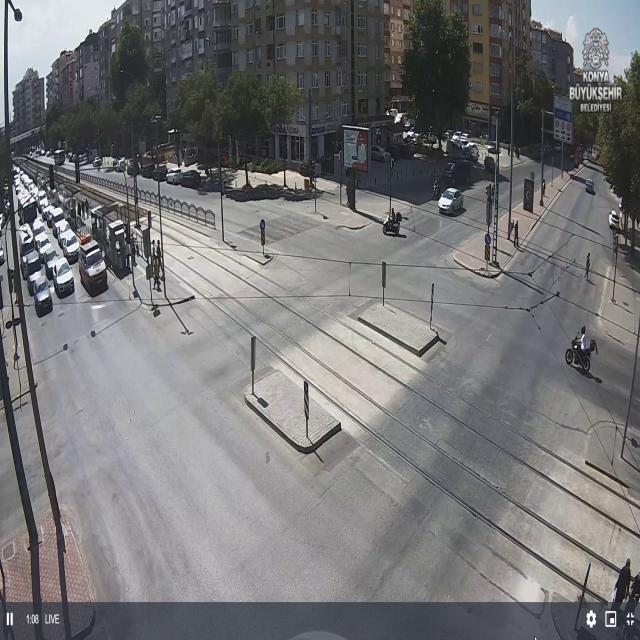Car: (51, 258, 76, 298), (40, 242, 62, 278), (57, 227, 80, 261), (33, 277, 53, 316), (27, 264, 47, 300), (21, 242, 41, 278), (438, 188, 463, 216), (33, 229, 51, 260), (18, 223, 36, 253), (176, 170, 202, 188), (53, 218, 71, 242), (43, 205, 60, 227), (32, 217, 48, 239), (370, 146, 389, 162), (166, 170, 185, 185), (37, 194, 50, 215), (152, 166, 168, 182), (608, 210, 620, 229), (140, 164, 156, 178), (127, 162, 140, 176), (117, 158, 129, 172), (584, 178, 594, 193), (487, 142, 498, 154), (93, 156, 103, 167)
Cycle: (564, 325, 598, 372), (383, 208, 404, 238)
Truck: (78, 238, 109, 292)
